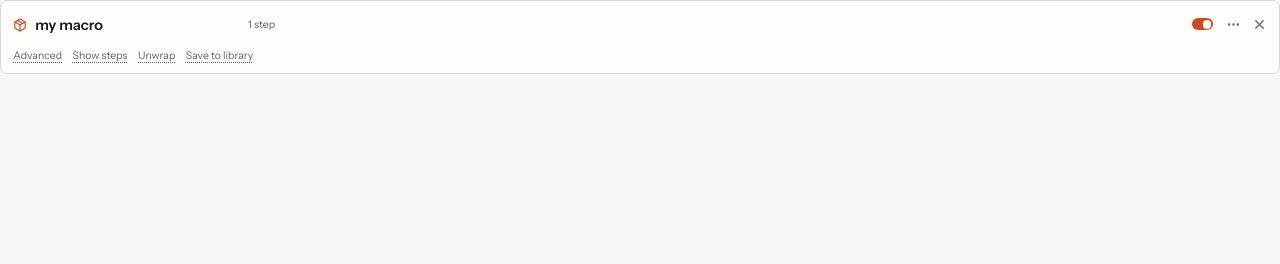
Test: <MacroCard /> › expands and collapses the body
Click the button "Show steps" at coordinates (100, 56), box [73,47,128,64]
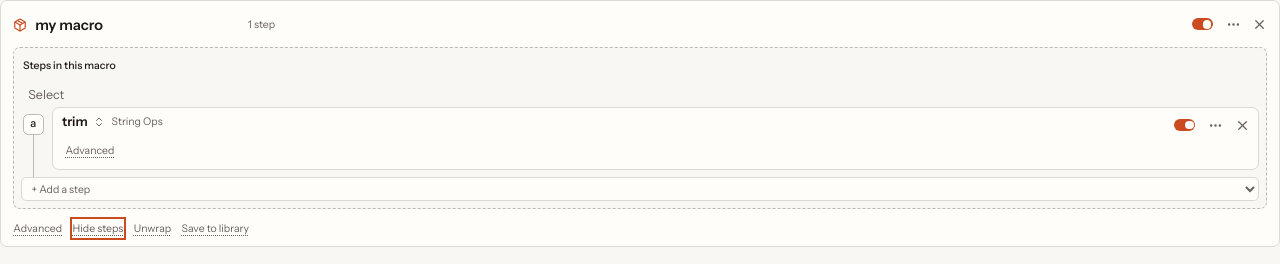
Expected: the element showing "trim String Ops Advanced" is shown, [52,106,1259,170]
Click the button "Hide steps" at coordinates (98, 229), box [73,220,123,237]
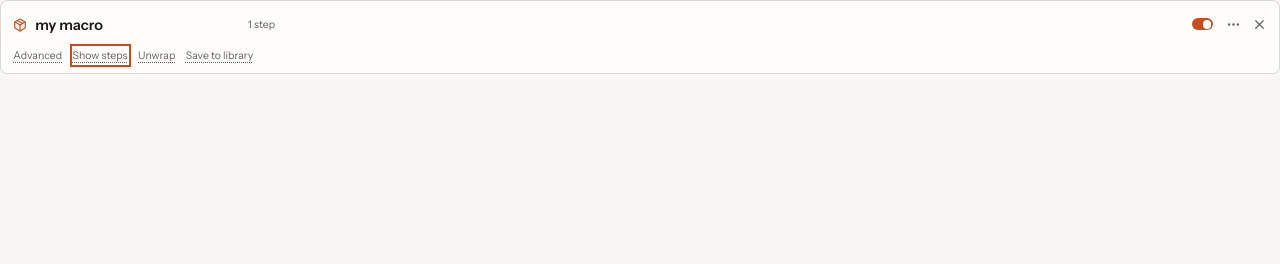
Expected: the button "Show steps" is shown, [73,47,128,64]
